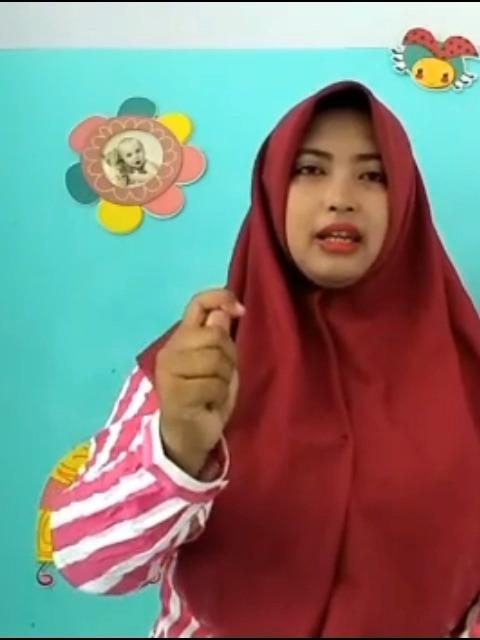T: (154, 287, 250, 461)
